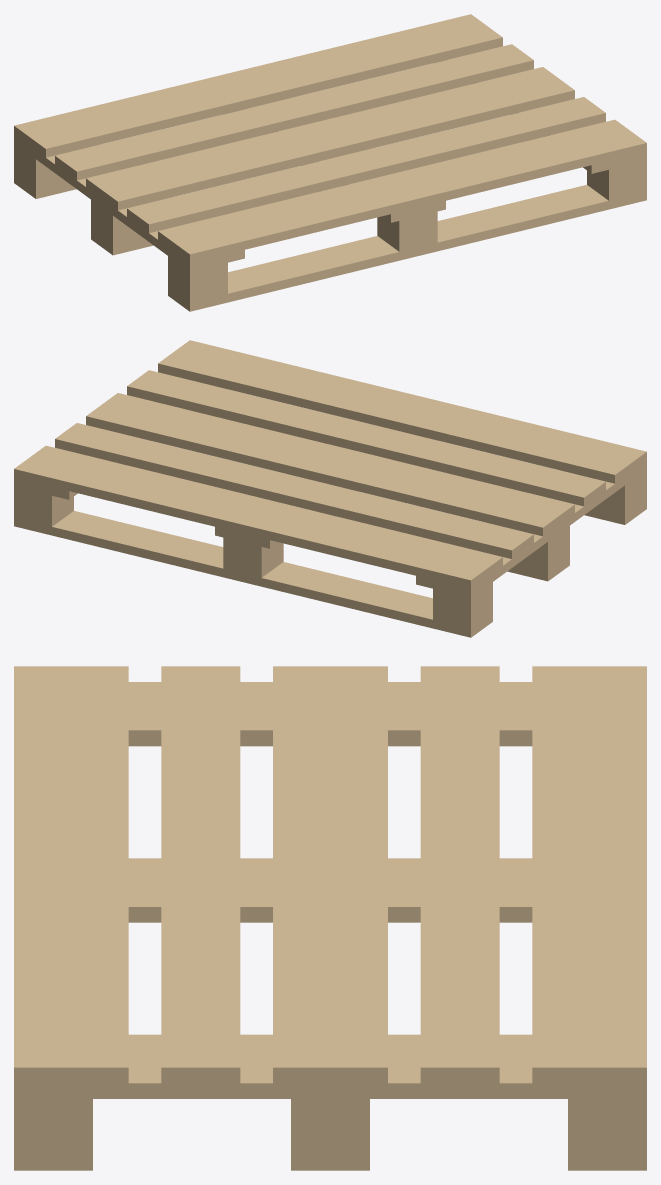
The model's file is palet_euro.glb.
3 views of the same model, one above another, from view 1: azimuth 30°, elevation 25°; view 2: azimuth 150°, elevation 25°; view 3: azimuth 270°, elevation 25° (orthographic). The views are drawn at different scales.
Parts seen in each view (by area): view 1: palet_euro; view 2: palet_euro; view 3: palet_euro.
Part boxes in pixels (x1,y1,x2,y2): palet_euro: [14, 14, 646, 311]; palet_euro: [14, 340, 646, 637]; palet_euro: [14, 666, 646, 1170].
Size of the model in its own units: 1.2 by 0.144 by 0.8.
